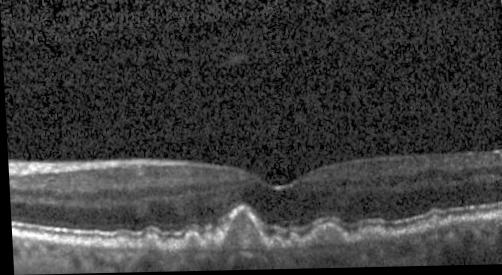retinal_drusen: (219, 212, 264, 251), (304, 228, 342, 249), (355, 232, 383, 244), (180, 237, 199, 251), (112, 235, 129, 248), (425, 218, 443, 230), (140, 237, 157, 249), (203, 237, 214, 251), (288, 236, 297, 250), (268, 239, 280, 249)
